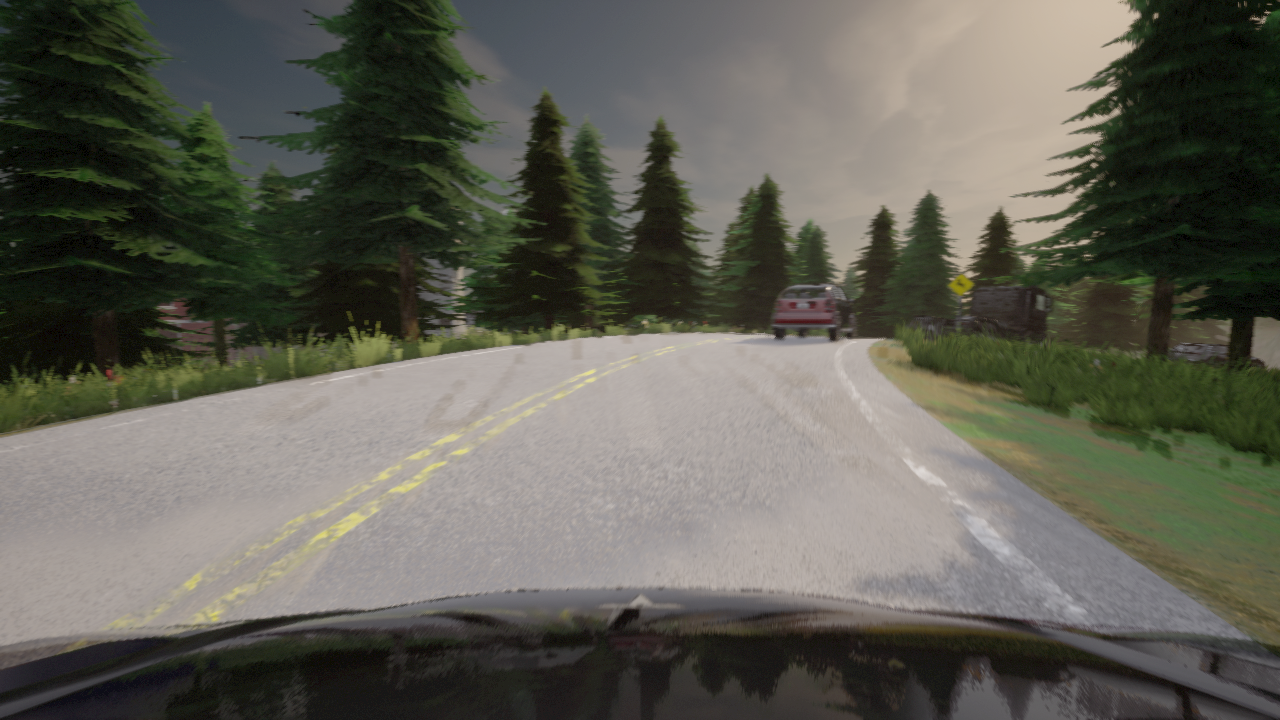cyclist: (0, 588, 1279, 719), (905, 284, 1052, 344), (772, 283, 856, 340), (1168, 342, 1265, 368)
